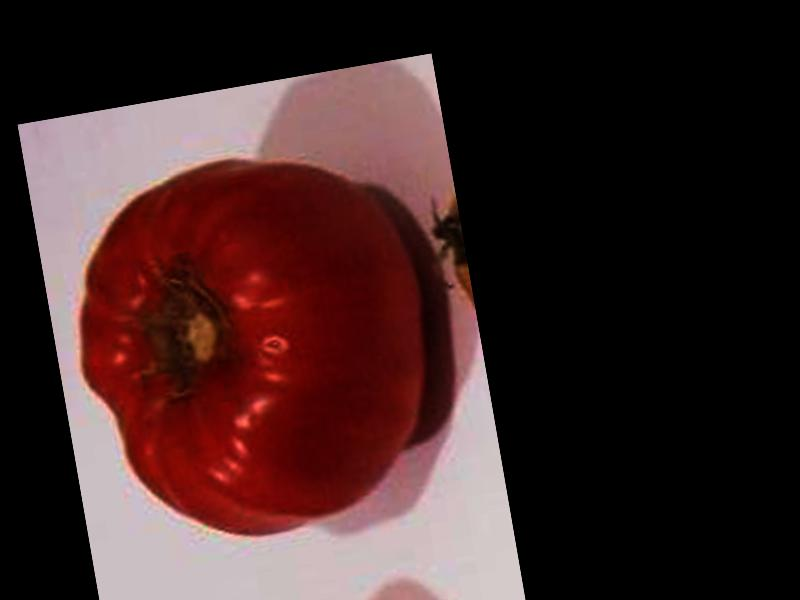Tomato: (54, 134, 450, 556)
